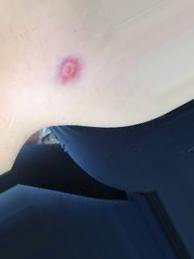Tick: (51, 52, 85, 84)
